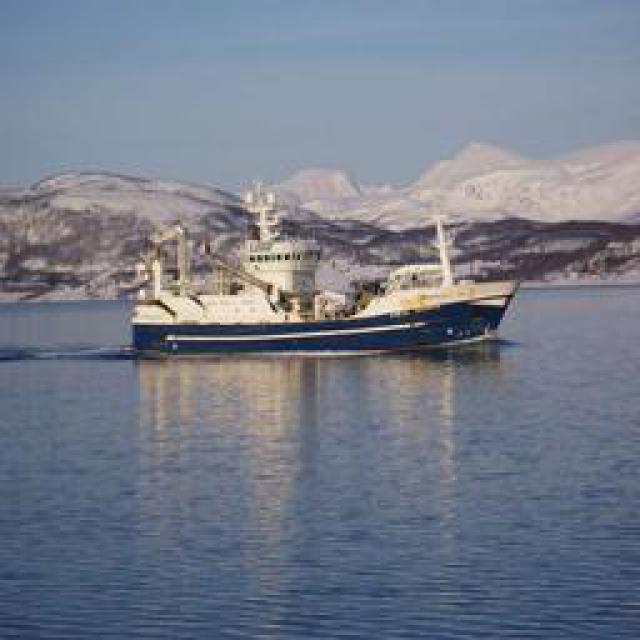Ship: (120, 271, 525, 356)
